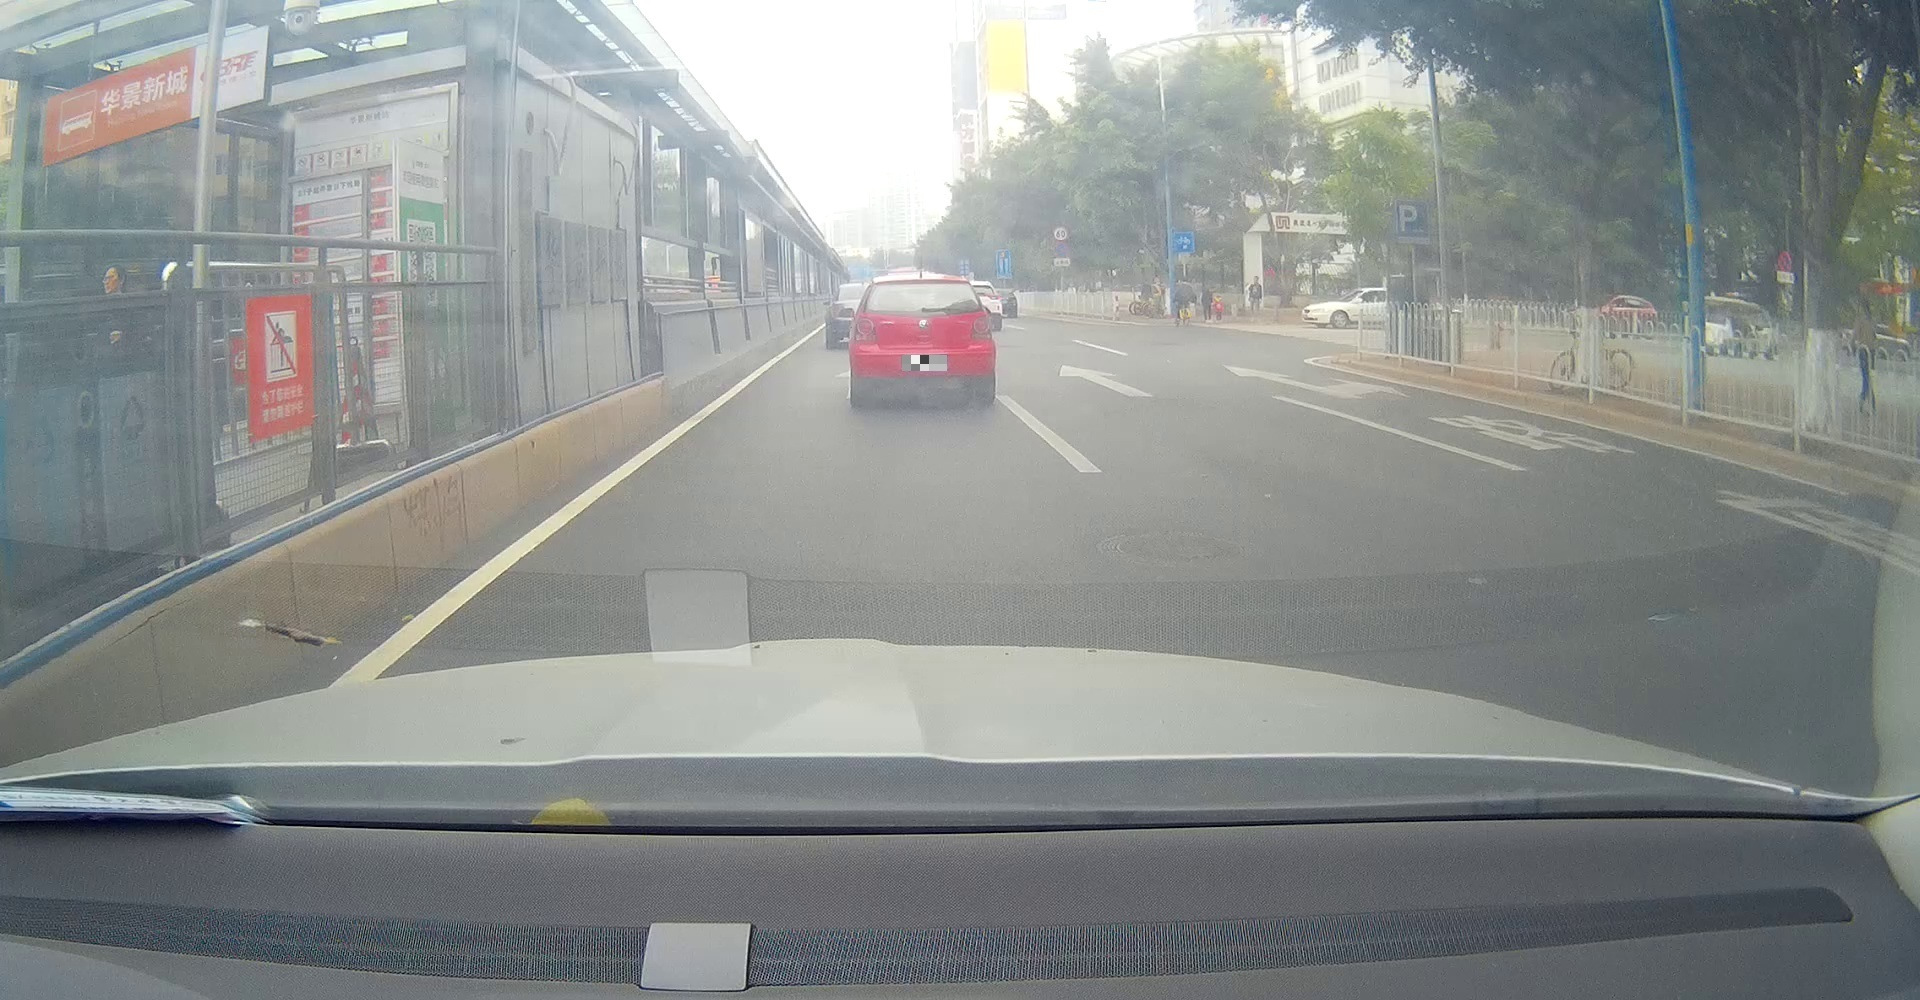L_light: (850, 319, 879, 343)
R_light: (971, 313, 994, 340)
T_light: (916, 282, 933, 287)
day-no: (848, 273, 997, 405)
plate_1: (902, 355, 947, 371)
